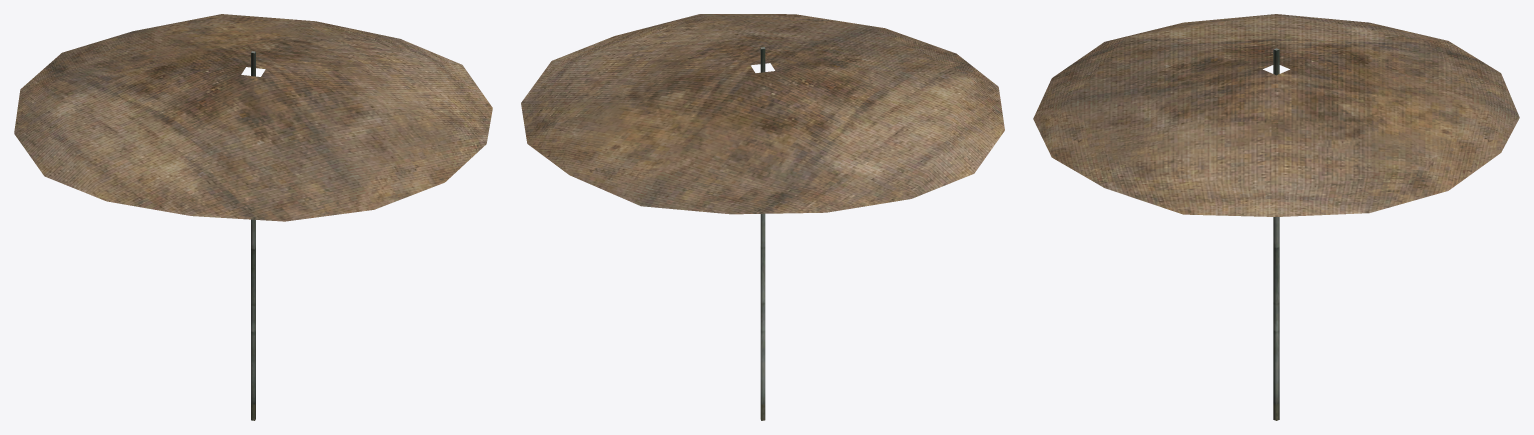
File: frn_tato_cafe_parasol_s01_l1.fbx
3 views of the same model, side by side, from view 1: azimuth 30°, elevation 25°; view 2: azimuth 150°, elevation 25°; view 3: azimuth 270°, elevation 25° (orthographic).
Visible parts, largest first — view 1: mesh_node; view 2: mesh_node; view 3: mesh_node.
Part boxes in pixels (box(x1,y1,x2,y2)): mesh_node: box(14, 14, 492, 420); mesh_node: box(521, 14, 1004, 420); mesh_node: box(1033, 14, 1519, 420).
Bounding box in the file's own units: 3.64 × 3.06 × 3.64.
